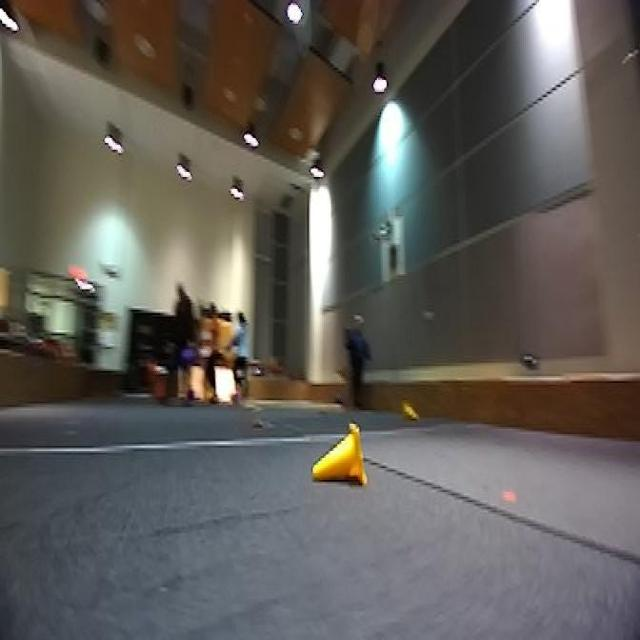frc_cone: (310, 420, 365, 492), (397, 396, 423, 424)
frc_cube: (175, 342, 196, 373)
